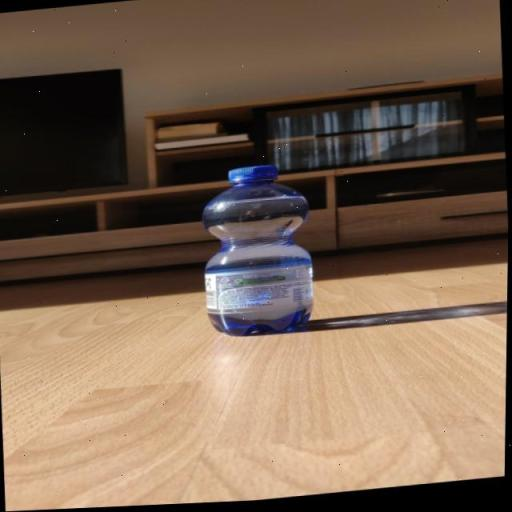plastic: (193, 160, 322, 343)
